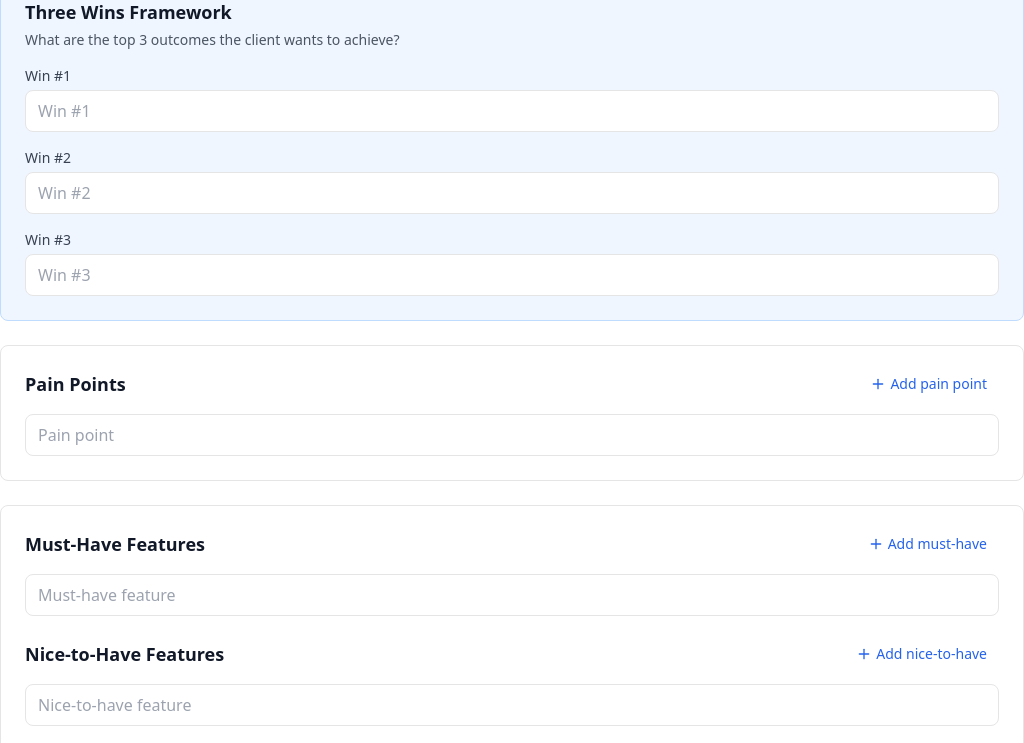
ClientInfoForm › Pain Points Section › should allow removing pain points
(page scrolled)
Click the button "Add pain point" at (929, 384), box [858,370,999,398]
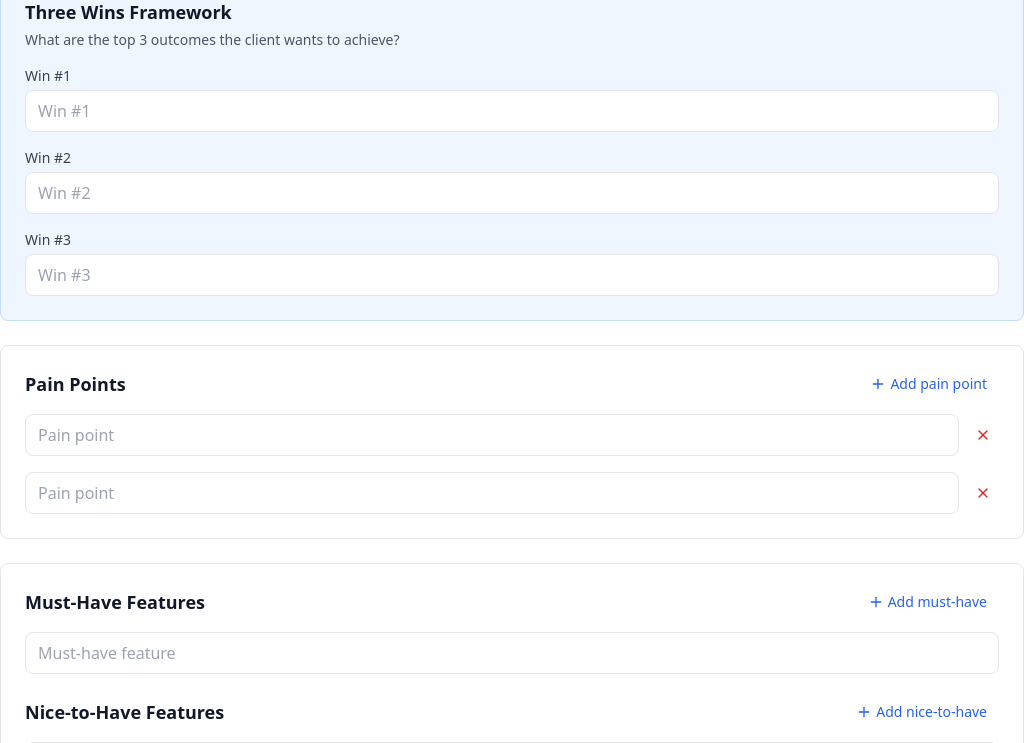
Expected: the number of fields with placeholder "Pain point" is 2, [25,414,959,456]; [25,472,959,514]
Click the 1st button named "remove" at (983, 435), box [967,414,999,456]
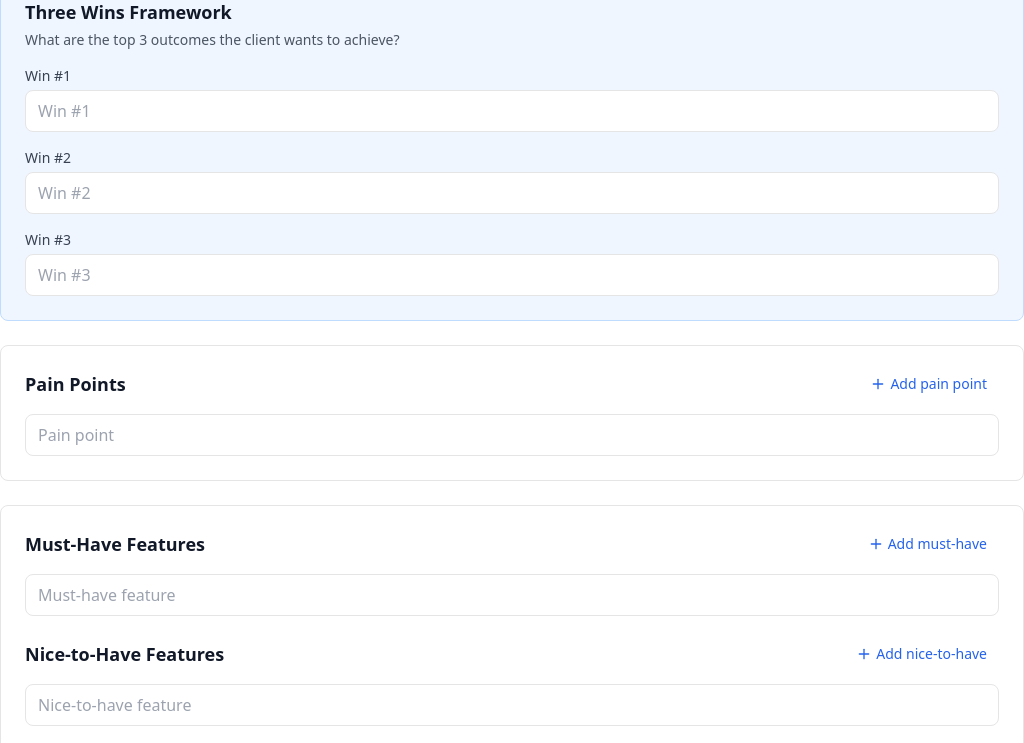
Expected: the number of fields with placeholder "Pain point" is 1, [25,414,999,456]
